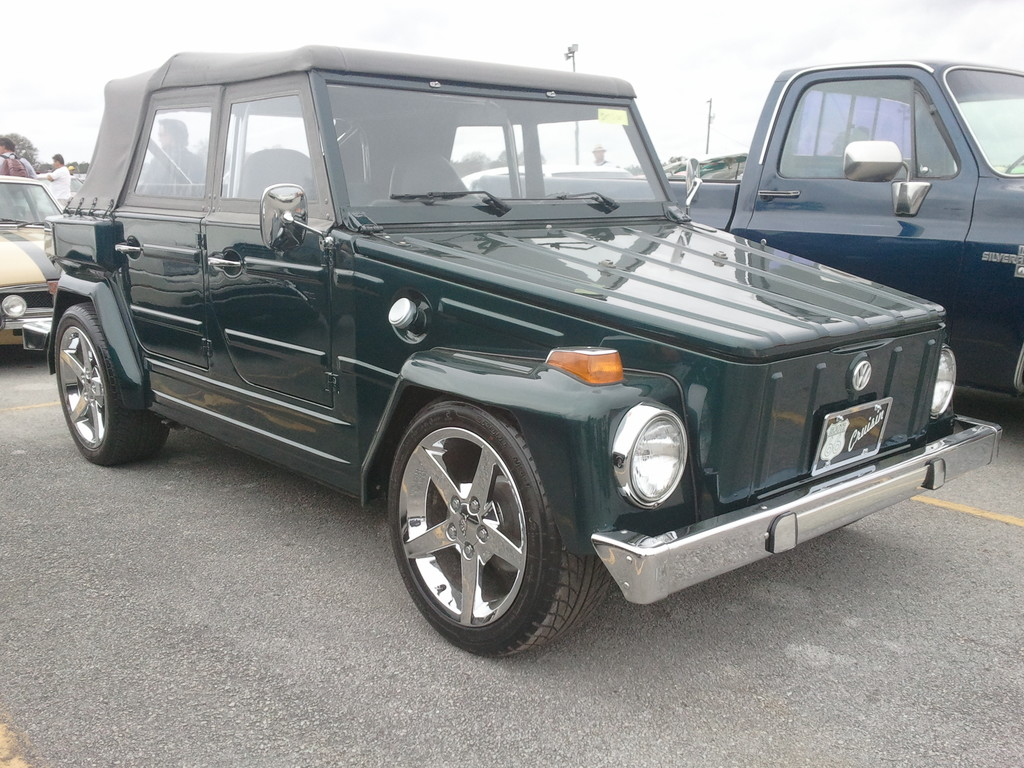Car: (21, 44, 1004, 659), (0, 174, 62, 344), (456, 164, 634, 197), (35, 171, 84, 195)
